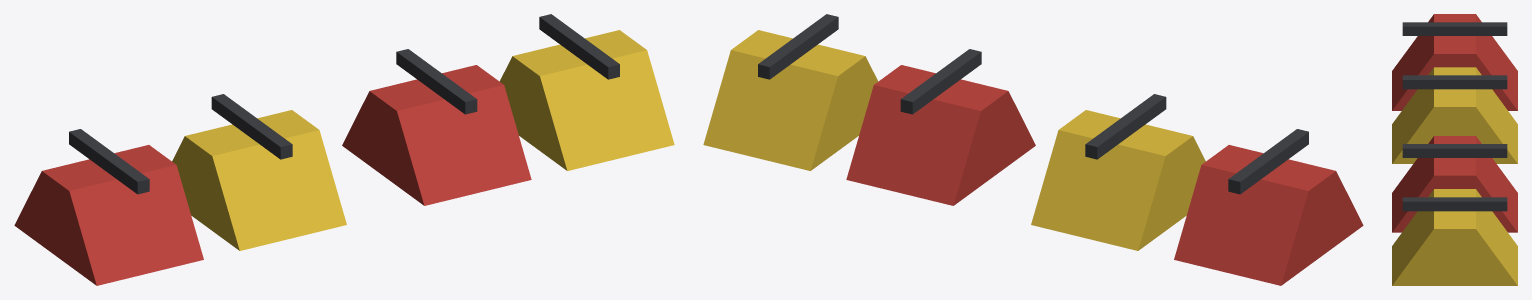
Rendered from wheel_chocks.glb.
The picture shows the model from 3 angles, left to right: view 1: azimuth 30°, elevation 25°; view 2: azimuth 150°, elevation 25°; view 3: azimuth 270°, elevation 25°; orthographic projection. The views are drawn at different scales.
Visible parts, largest first — view 1: wheel_chocks; view 2: wheel_chocks; view 3: wheel_chocks.
Part boxes in pixels (x1,y1,x2,y2): wheel_chocks: [14, 14, 674, 285]; wheel_chocks: [703, 14, 1363, 285]; wheel_chocks: [1392, 14, 1517, 285].
Bounding box in the file's own units: 0.97 × 0.14 × 0.24.
